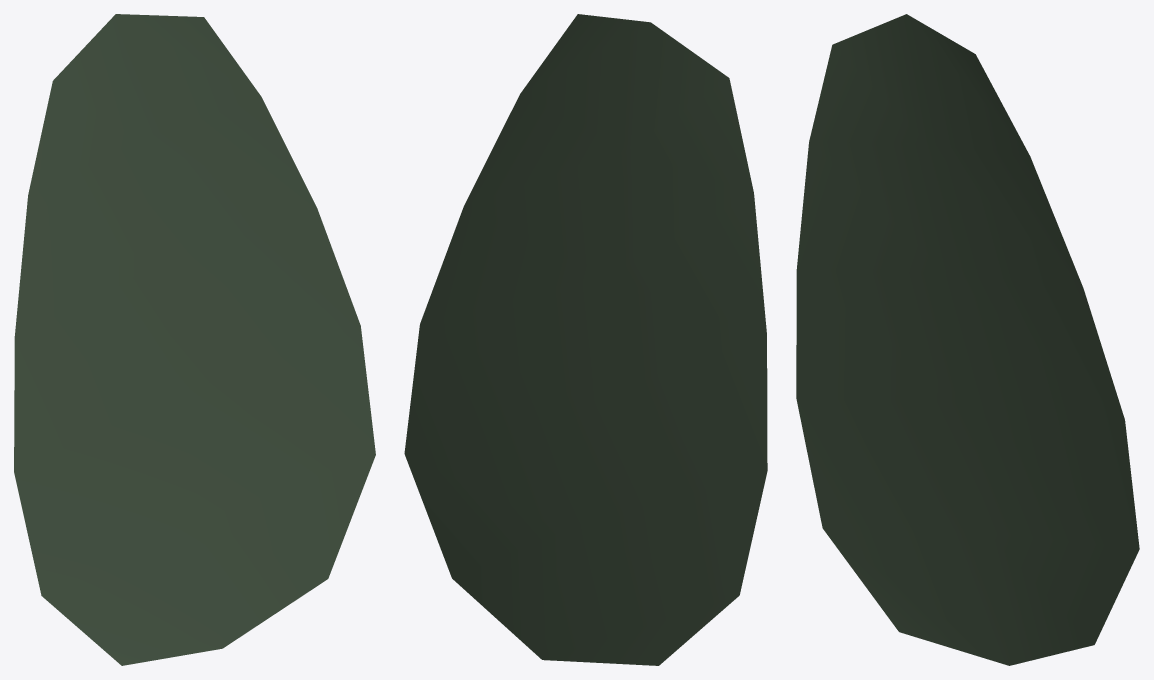
Rendered from duck_feather_flight_tertiary_046.obj.
3 views of the same model, side by side, from view 1: azimuth 30°, elevation 25°; view 2: azimuth 150°, elevation 25°; view 3: azimuth 330°, elevation 25° (orthographic). The views are drawn at different scales.
Parts seen in each view (by area): view 1: feather_flight_tertiary_046; view 2: feather_flight_tertiary_046; view 3: feather_flight_tertiary_046.
Part boxes in pixels (left/top/right/bottom): feather_flight_tertiary_046: left=14, top=14, right=375, bottom=665; feather_flight_tertiary_046: left=404, top=14, right=767, bottom=665; feather_flight_tertiary_046: left=796, top=14, right=1139, bottom=665.
Size of the model in its own units: 0.017 by 0.0297 by 0.000691.
